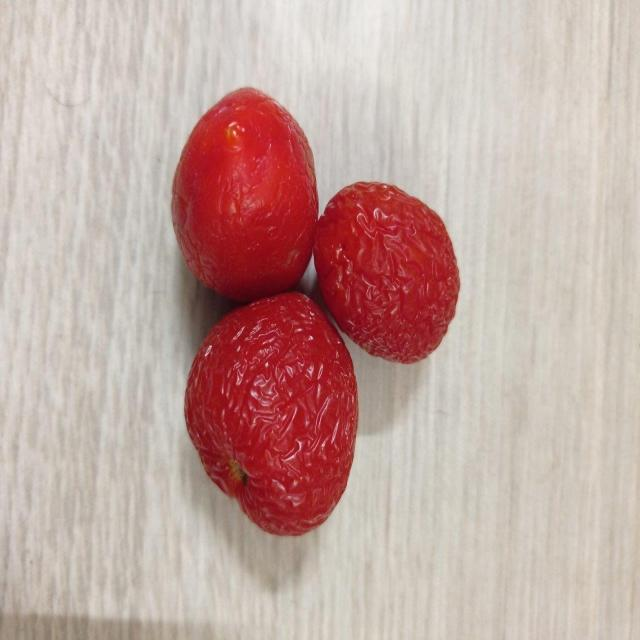overripe: (184, 295, 358, 533), (170, 82, 318, 298), (322, 177, 462, 365)
